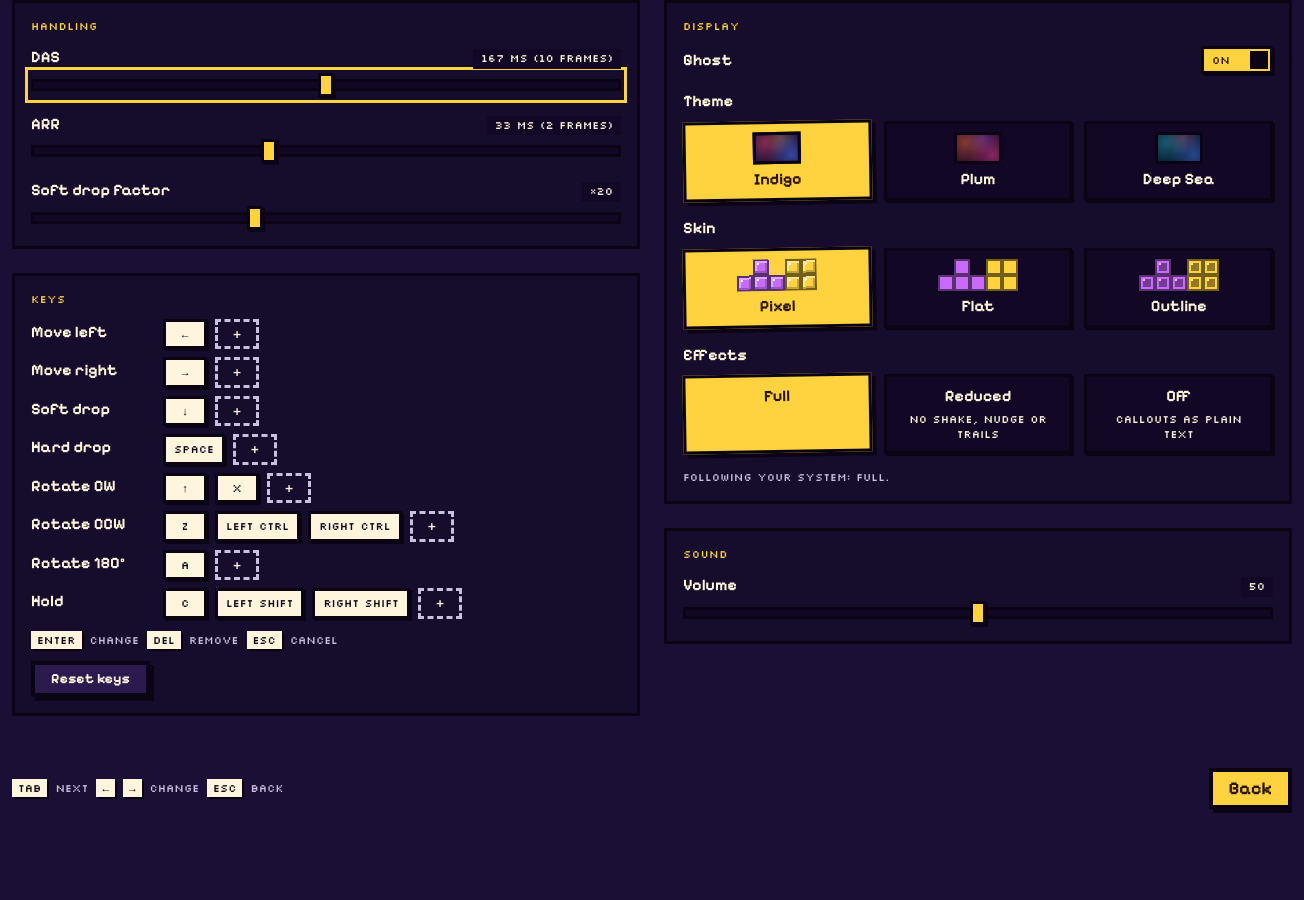
Test: bindings › a key taken for a new slot leaves the action that had it
The width and height of the screenshot is (1304, 900).
Click the button named "Hold: add a key" at coordinates (440, 604), box [418, 588, 462, 619]
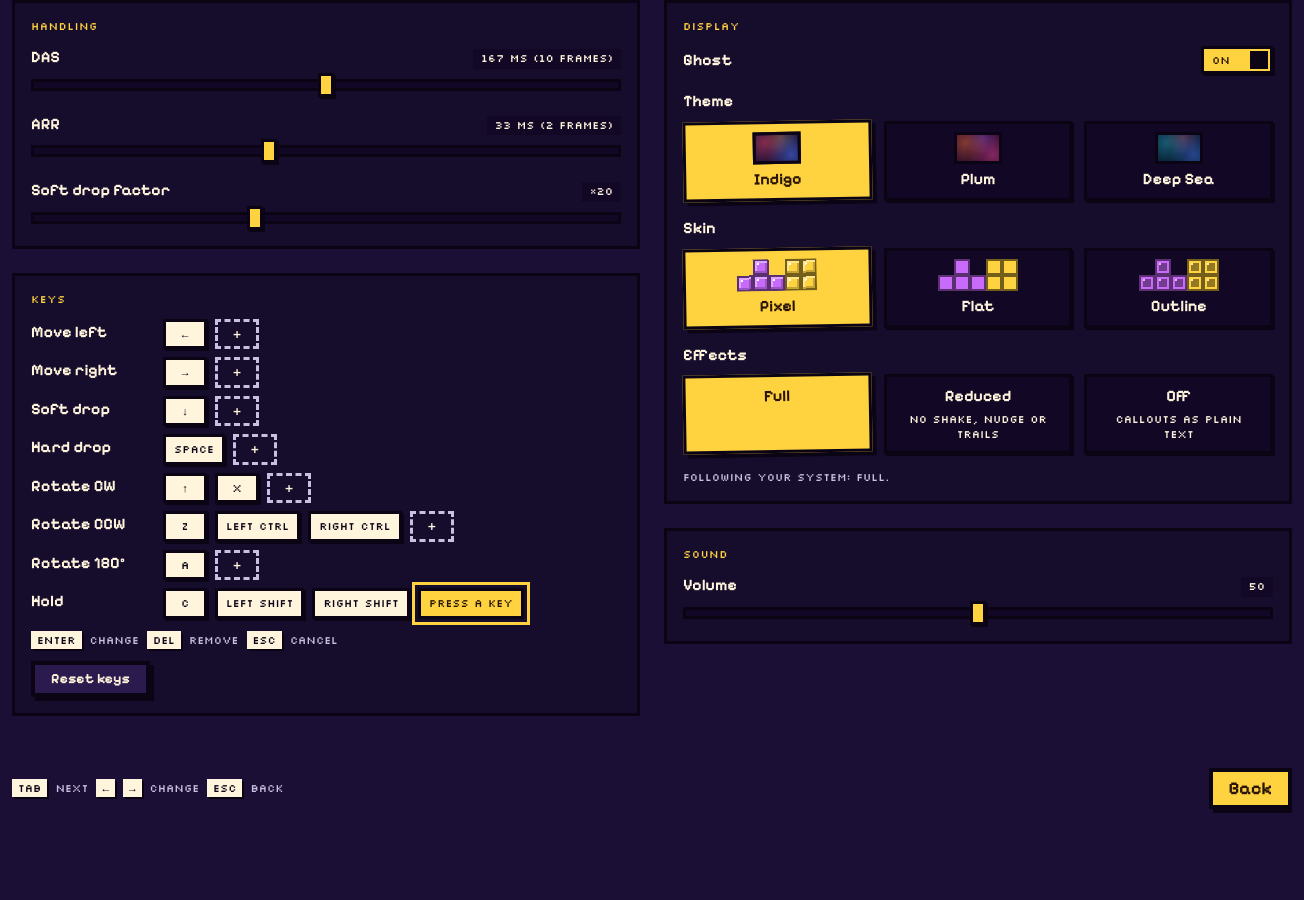
Type keys "x"
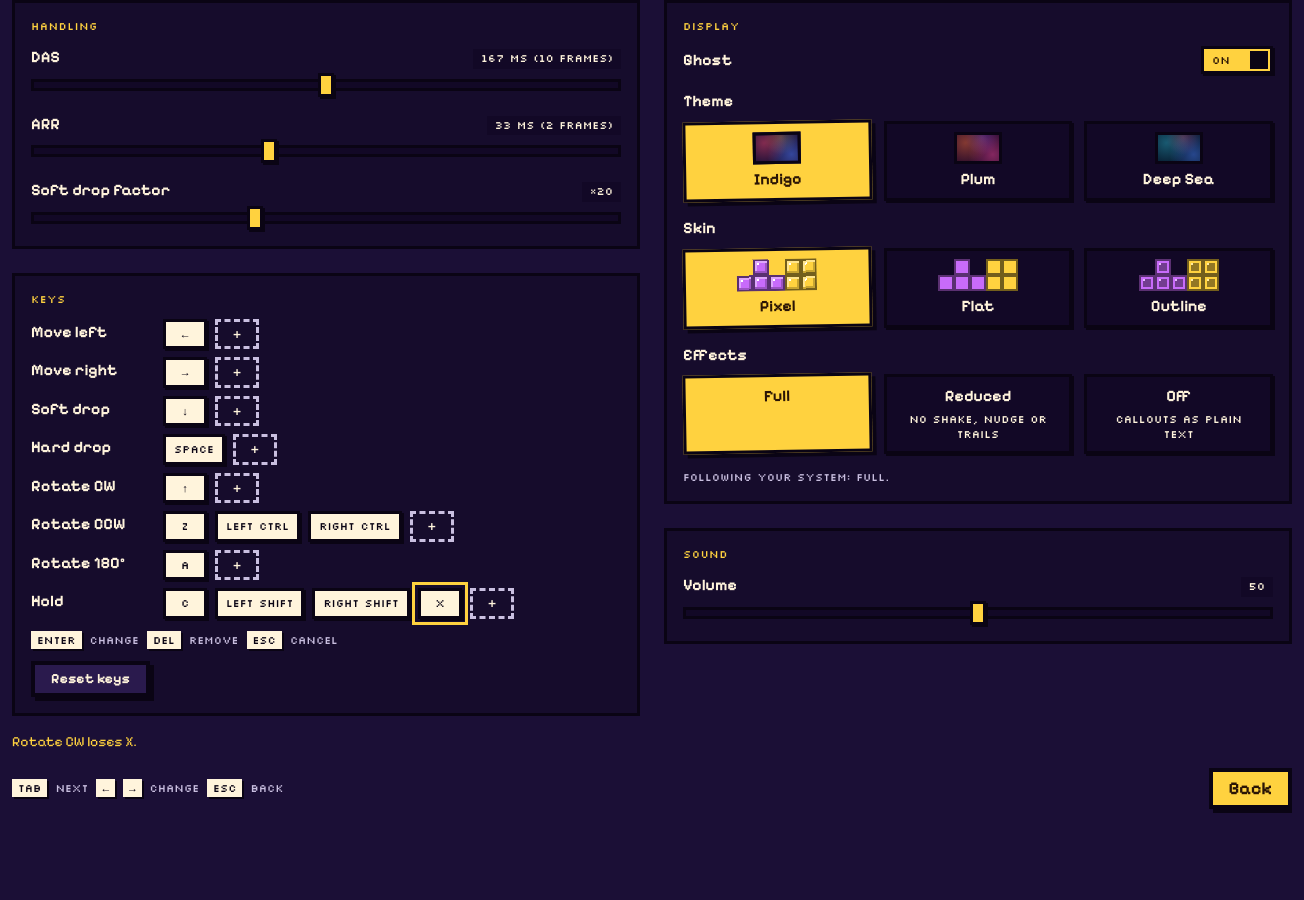
Expected: the message with test id "settings-message" reads "Rotate CW loses X.", [12, 733, 137, 750]
